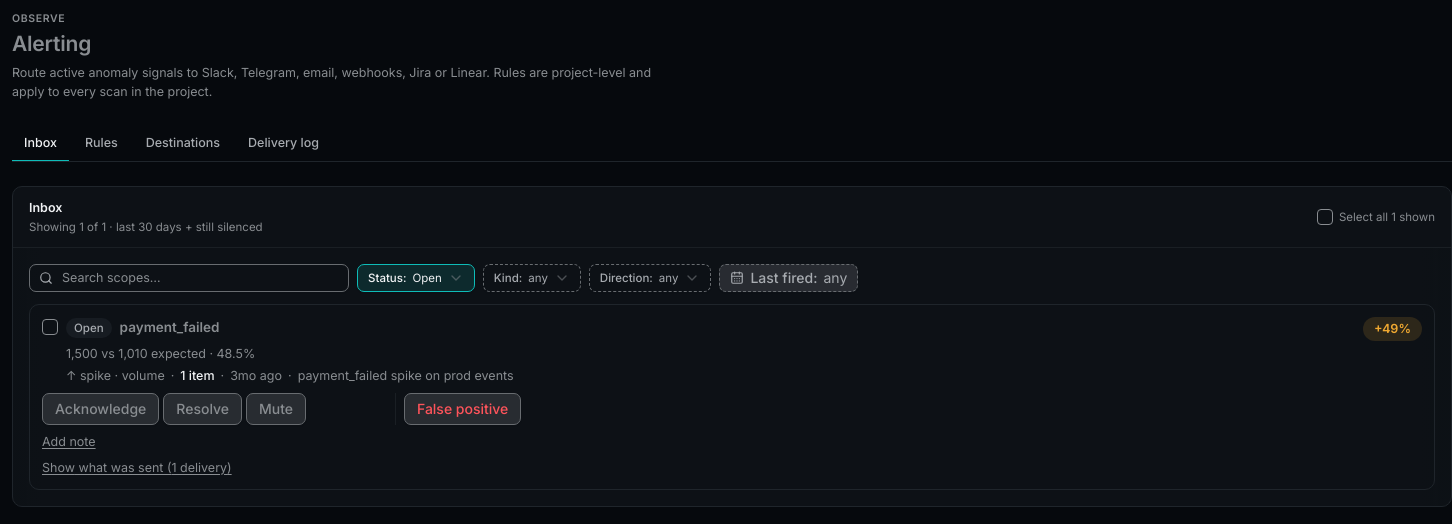
it: ProjectAlertingTab — guided setup (tripl-7l83.14) › counts one group and one delivery in the singular, not "1 groups" / "1 deliveries"
Expected: the text "Showing 1 of 1 · last 30 days + still silenced" is shown, [29, 220, 263, 234]
Press the mouse on the tab "Delivery log": (284, 144) [236, 126, 331, 162]
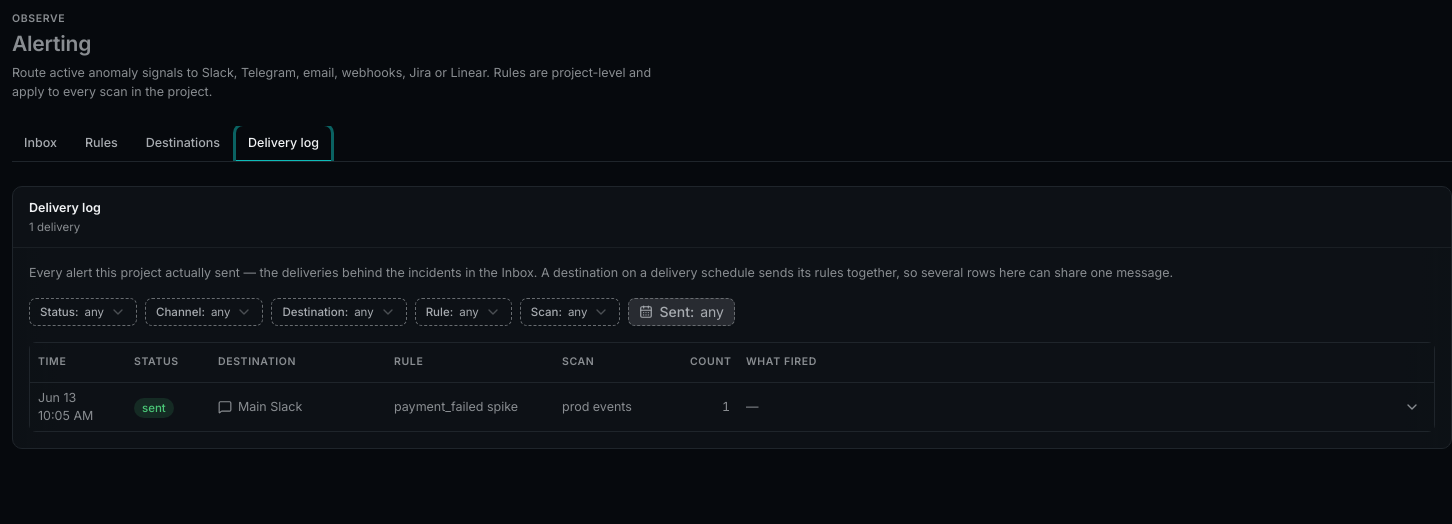
Now the text "1 delivery" is shown, box [29, 220, 80, 234]
Press the mouse on the tab "Inbox": (40, 144) [12, 126, 69, 162]
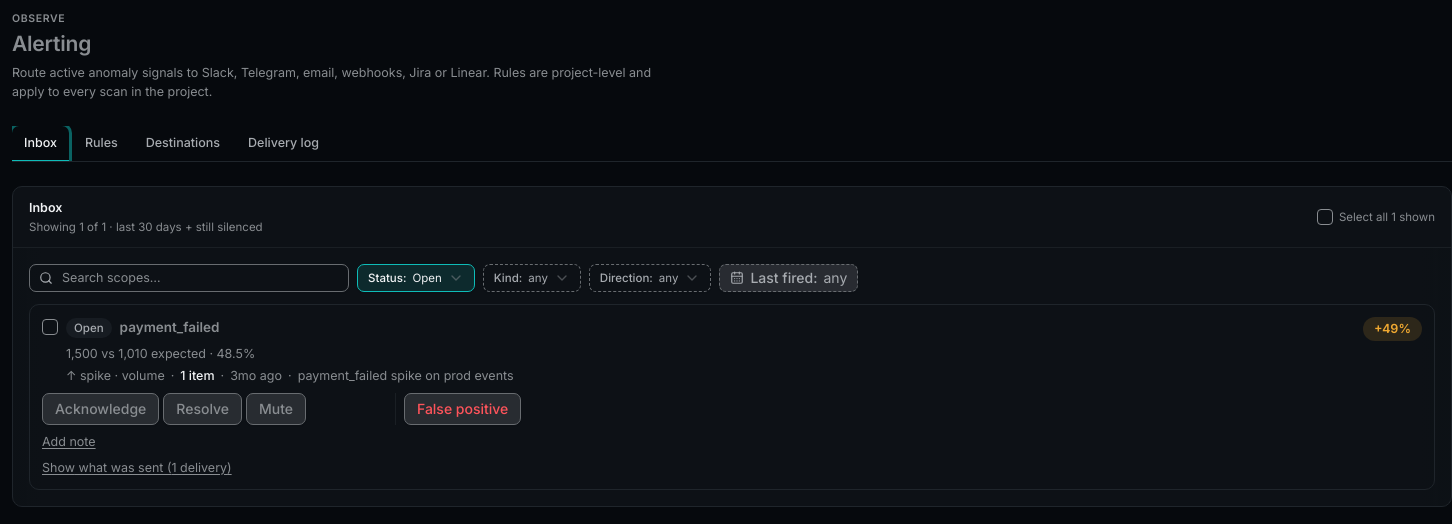
Now the text "1 item" is shown, box [180, 366, 215, 384]
